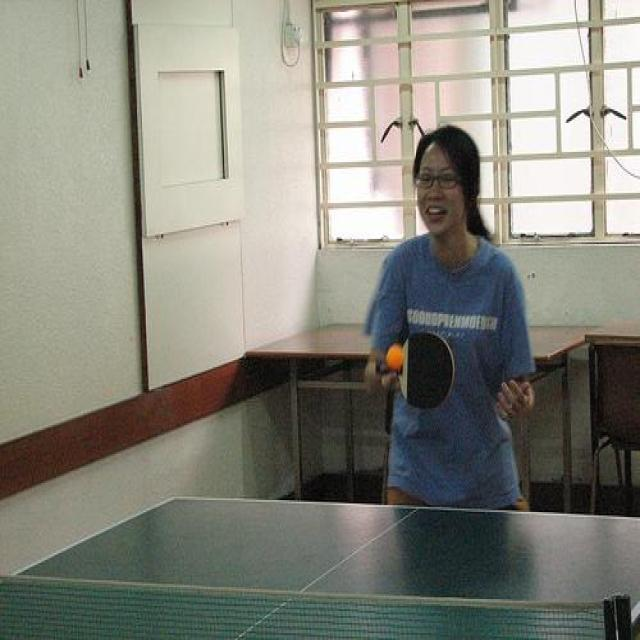ping-pong-ball: (386, 344, 405, 372)
